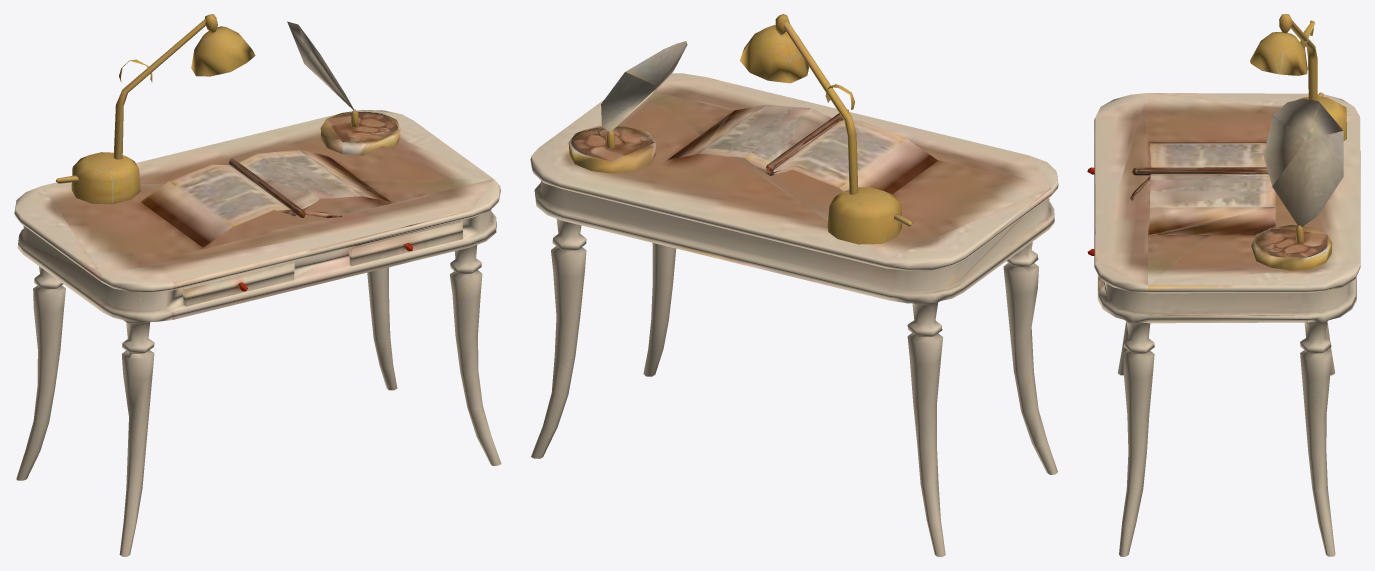
Rendered from journal-desk.glb.
3 renders of one model, left to right at view 1: azimuth 30°, elevation 25°; view 2: azimuth 150°, elevation 25°; view 3: azimuth 270°, elevation 25°, orthographic. The views are drawn at different scales.
Parts seen in each view (by area): view 1: journal-desk; view 2: journal-desk; view 3: journal-desk.
Boxes of the visible parts, left/top/right/bottom form: journal-desk: left=14, top=14, right=501, bottom=556; journal-desk: left=530, top=14, right=1058, bottom=556; journal-desk: left=1087, top=14, right=1360, bottom=556.
Size of the model in its own units: 1.03 by 1.1 by 0.6191.
1 material, 1 textured.
